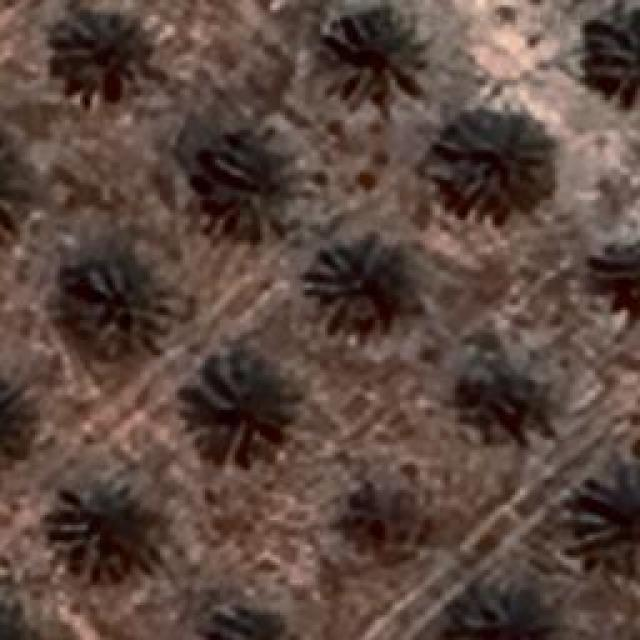PalmTree: (430, 110, 552, 215), (320, 5, 430, 105), (48, 480, 160, 572), (332, 476, 440, 570), (200, 144, 302, 238), (80, 258, 175, 358), (50, 2, 155, 92), (190, 358, 280, 458), (317, 240, 415, 328), (442, 574, 556, 640), (446, 357, 560, 422), (574, 465, 638, 573), (578, 9, 640, 106), (583, 237, 640, 319), (0, 133, 41, 246), (0, 379, 56, 461), (190, 603, 300, 640), (0, 582, 43, 640)
